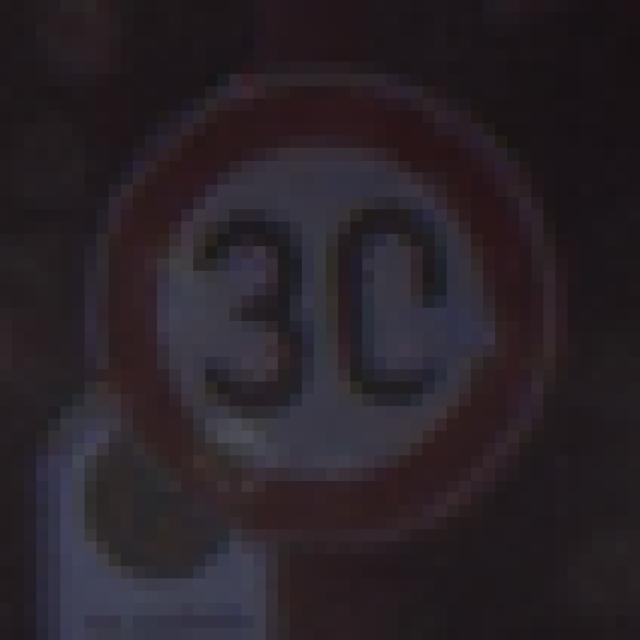Speed Limit -30-: (66, 55, 574, 572)
